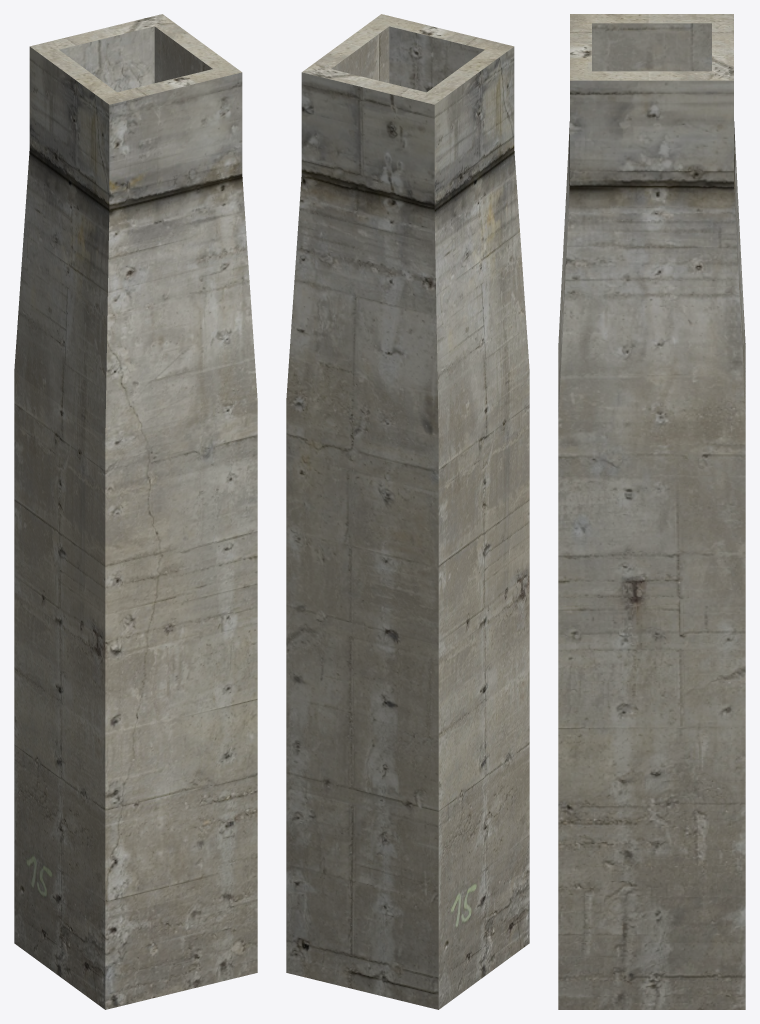
File: chimney.fbx
3 renders of one model, left to right at view 1: azimuth 30°, elevation 25°; view 2: azimuth 150°, elevation 25°; view 3: azimuth 270°, elevation 25°, orthographic. The views are drawn at different scales.
Visible parts, largest first — view 1: chimney_Layer1; view 2: chimney_Layer1; view 3: chimney_Layer1.
Boxes of the visible parts, x1,y1,x2,y2 form: chimney_Layer1: (14, 14, 257, 1009); chimney_Layer1: (286, 14, 529, 1009); chimney_Layer1: (558, 14, 745, 1009).
Size of the model in its own units: 0.3184 by 1.79 by 0.3294.
Materials: 1 (1 with a texture image).
